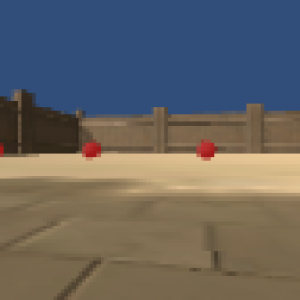badGoal: (77, 138, 106, 165), (192, 136, 219, 163), (1, 140, 6, 161)
